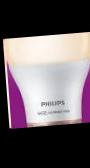Bulb: (2, 33, 90, 129)
